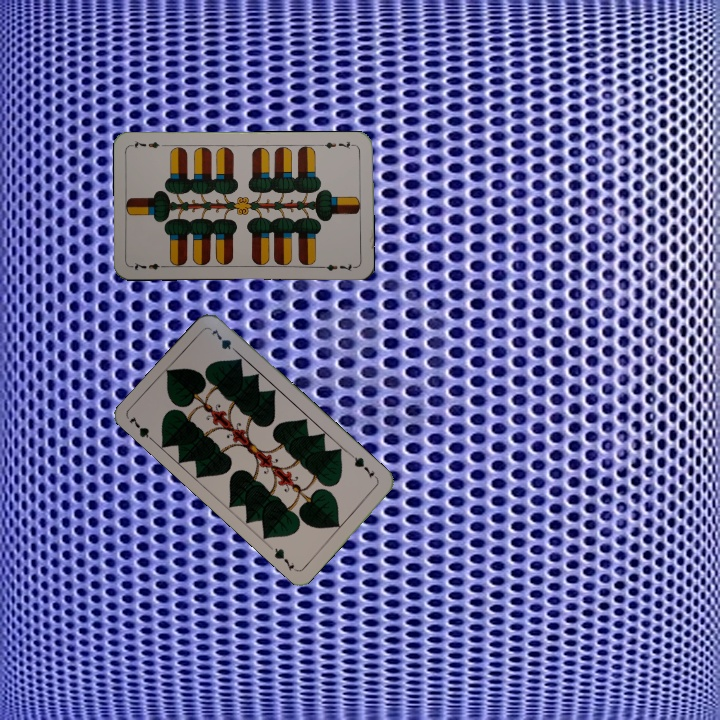E7: (317, 137, 357, 152), (129, 259, 169, 273)
G7: (125, 412, 159, 446), (348, 451, 381, 483)
